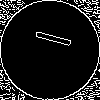I: (25, 25, 72, 50)
